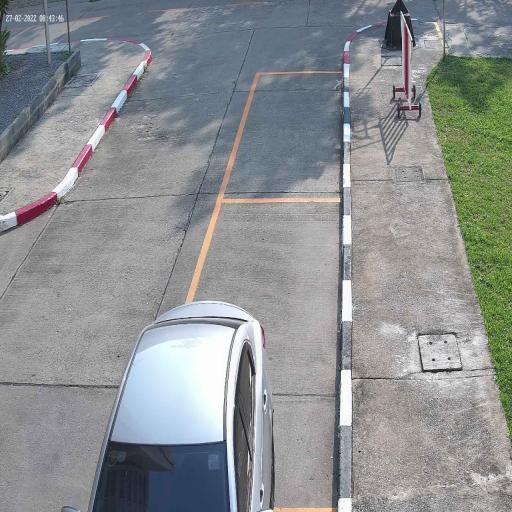car: (86, 298, 278, 512)
